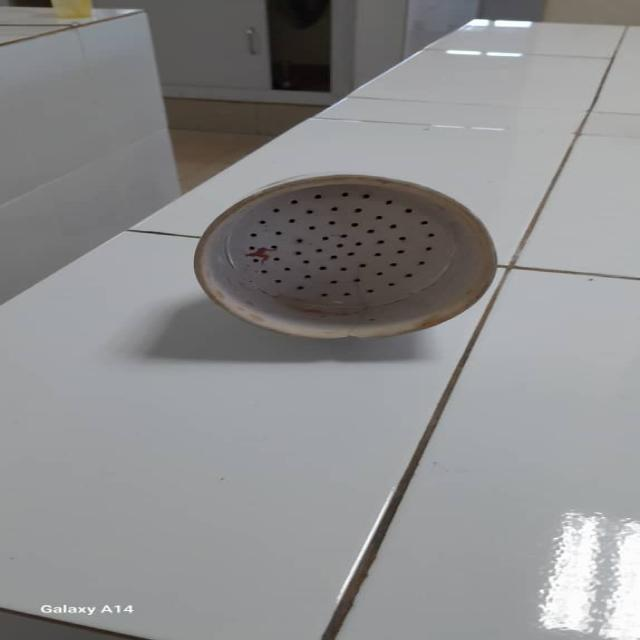Bunchen funnel: (180, 170, 508, 346)
